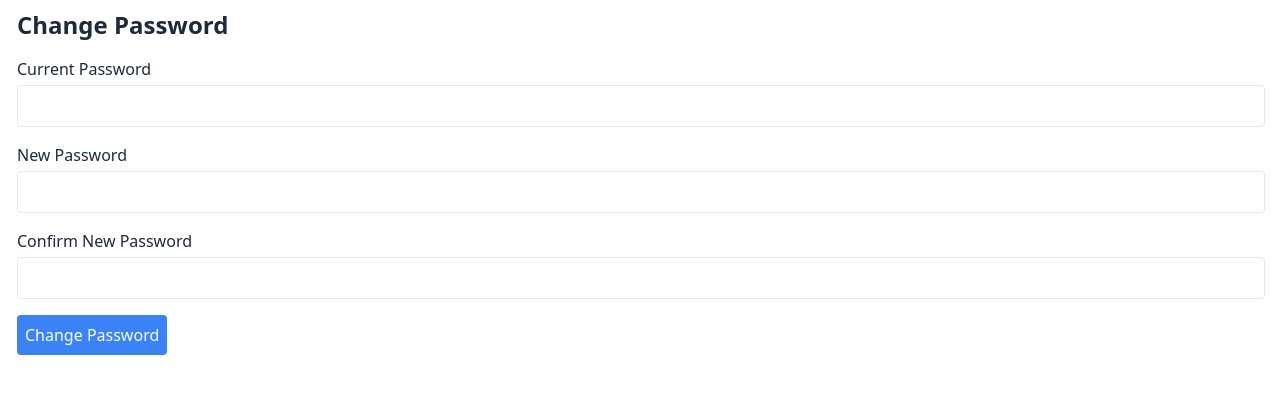
Test: ChangePasswordPage › should show error message on API failure
The image size is (1282, 411).
Step 1. Type "WrongPassword!" into the password field labelled "Current Password" → (641, 106), box [17,85,1265,127]
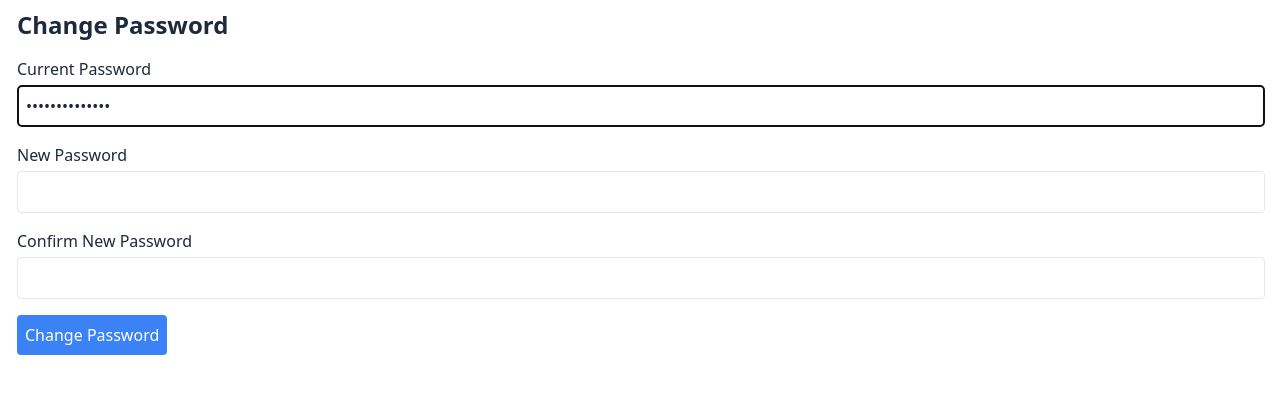
Step 2. Type "NewStrongPassword123!" into the password field labelled "New Password" → (641, 192), box [17,171,1265,213]
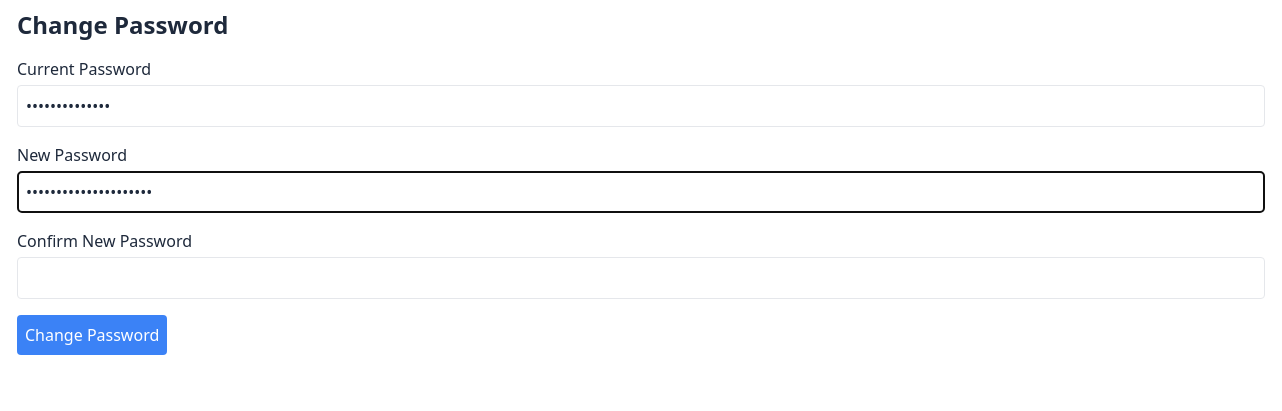
Step 3. Type "NewStrongPassword123!" into the password field labelled "Confirm New Password" → (641, 278), box [17,257,1265,299]
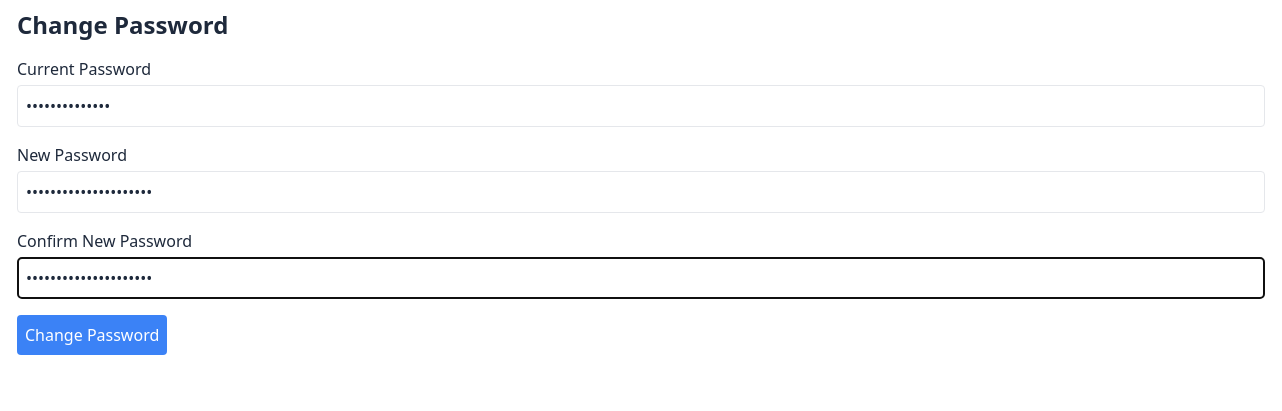
Step 4. Click the button "Change Password" → (92, 335), box [17,315,167,355]
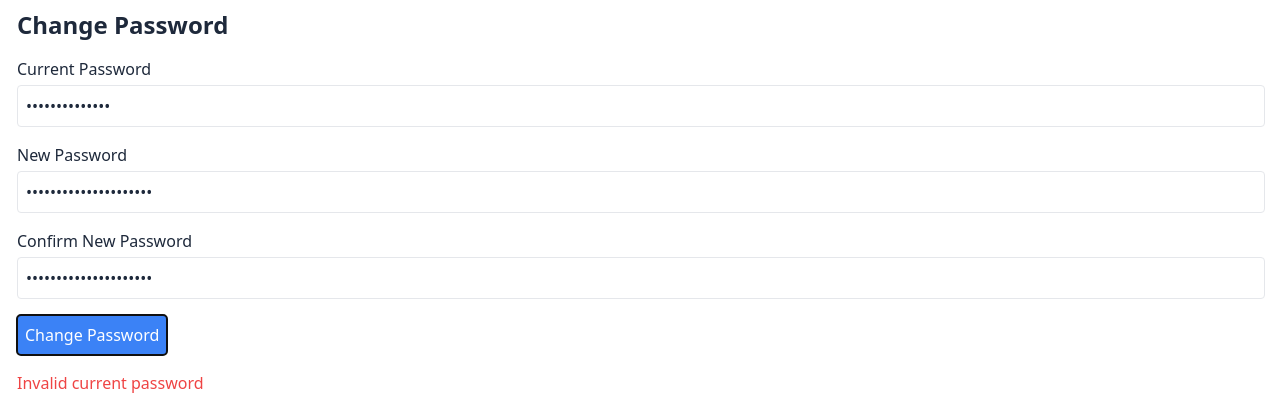
expect the text "Invalid current password" is shown: met, box [17,372,204,394]
